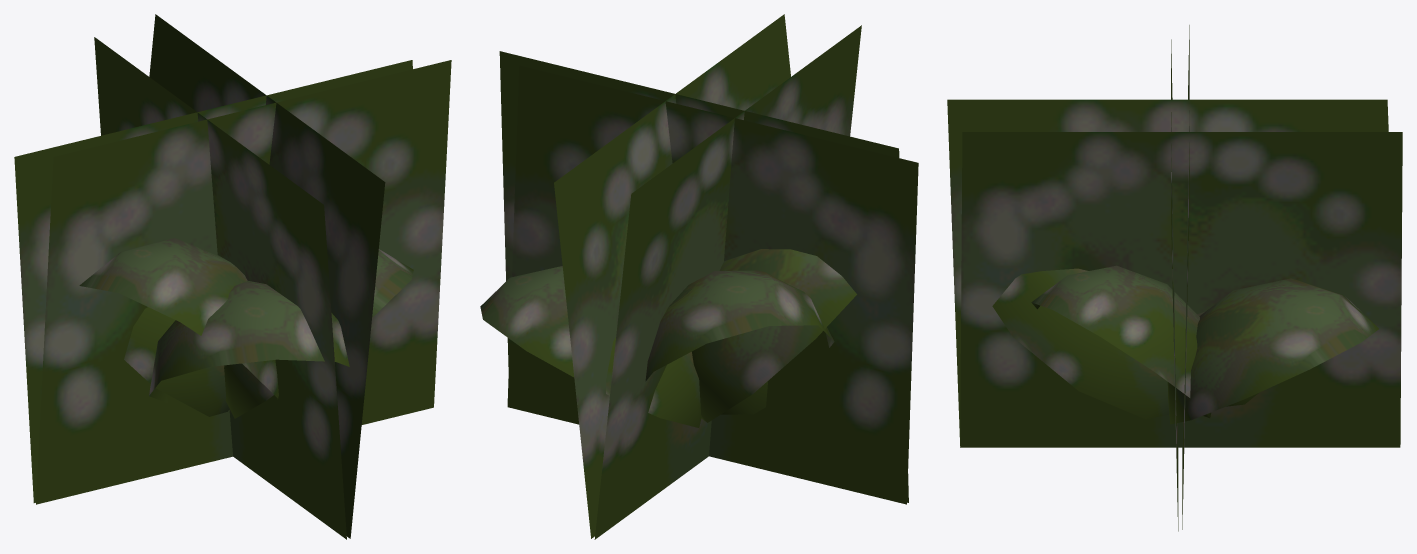
File: GrassReed3.fbx
3 renders of one model, left to right at view 1: azimuth 30°, elevation 25°; view 2: azimuth 150°, elevation 25°; view 3: azimuth 270°, elevation 25°, orthographic. The views are drawn at different scales.
Parts seen in each view (by area): view 1: GrassReed3; view 2: GrassReed3; view 3: GrassReed3.
Part boxes in pixels (<box>): GrassReed3: <box>14,14,451,539</box>; GrassReed3: <box>480,14,918,539</box>; GrassReed3: <box>947,25,1402,531</box>.
Bounding box in the file's own units: 1.21 × 1.16 × 0.9362.
